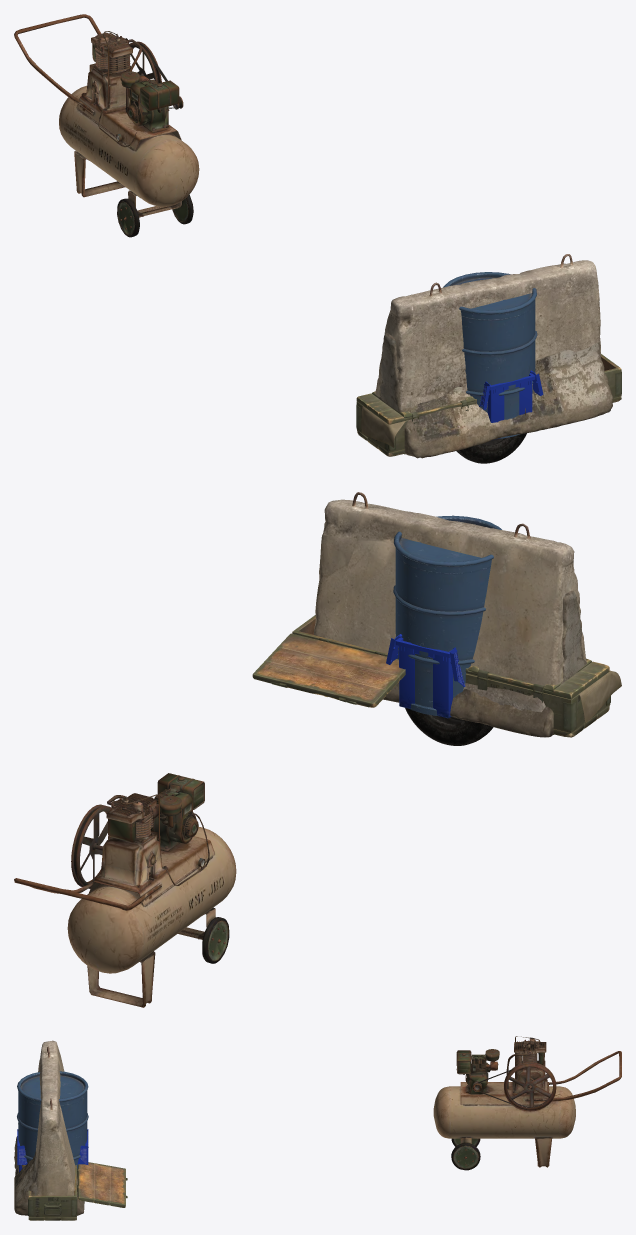
The model's file is arena-dust-props-v1.glb.
3 renders of one model, top to bottom at view 1: azimuth 30°, elevation 25°; view 2: azimuth 150°, elevation 25°; view 3: azimuth 270°, elevation 25°, orthographic. The views are drawn at different scales.
Parts seen in each view (by area): view 1: old_military_compressor, concrete_road_barrier_02, concrete_road_barrier, barrel_03, industrial_pastic_container--industrial_pastic_container, old_military_crate--old_military_crate_lid_a, old_tyre, old_military_crate--old_military_crate_cloth_a, old_military_crate--old_military_crate_a; view 2: concrete_road_barrier_02, old_military_compressor, barrel_03, old_military_crate--old_military_crate_lid_b, concrete_road_barrier, industrial_pastic_container--industrial_pastic_container, old_military_crate--old_military_crate_a, old_military_crate--old_military_crate_lid_a, old_tyre, old_military_crate--old_military_crate_cloth_a; view 3: old_military_compressor, concrete_road_barrier_02, barrel_03, old_military_crate--old_military_crate_lid_b, old_military_crate--old_military_crate_b, concrete_road_barrier, industrial_pastic_container--industrial_pastic_container_lid.
Boxes of the visible parts, box(x1,y1,x2,y2) form: old_military_compressor: box(14, 14, 199, 237); concrete_road_barrier_02: box(375, 254, 600, 410); concrete_road_barrier: box(377, 333, 613, 458); barrel_03: box(443, 272, 537, 438); industrial_pastic_container--industrial_pastic_container: box(487, 373, 535, 439); old_military_crate--old_military_crate_lid_a: box(356, 391, 476, 424); old_tyre: box(456, 433, 526, 463); old_military_crate--old_military_crate_cloth_a: box(361, 406, 405, 447); old_military_crate--old_military_crate_a: box(356, 401, 408, 456); concrete_road_barrier_02: box(314, 492, 586, 712); old_military_compressor: box(14, 773, 236, 1007); barrel_03: box(393, 515, 501, 716); old_military_crate--old_military_crate_lid_b: box(252, 633, 405, 707); concrete_road_barrier: box(383, 590, 586, 737); industrial_pastic_container--industrial_pastic_container: box(395, 637, 456, 718); old_military_crate--old_military_crate_a: box(465, 674, 610, 737); old_military_crate--old_military_crate_lid_a: box(465, 658, 609, 699); old_tyre: box(405, 708, 493, 745); old_military_crate--old_military_crate_cloth_a: box(579, 670, 621, 723); old_military_compressor: box(433, 1036, 621, 1170); concrete_road_barrier_02: box(36, 1040, 77, 1195); barrel_03: box(17, 1071, 88, 1168); old_military_crate--old_military_crate_lid_b: box(77, 1162, 127, 1207); old_military_crate--old_military_crate_b: box(28, 1165, 78, 1220); concrete_road_barrier: box(14, 1136, 84, 1215); industrial_pastic_container--industrial_pastic_container_lid: box(17, 1145, 88, 1165).
Bounding box in the file's own units: 1.82 × 1.48 × 5.4.
Materials: 15 (15 with a texture image).
